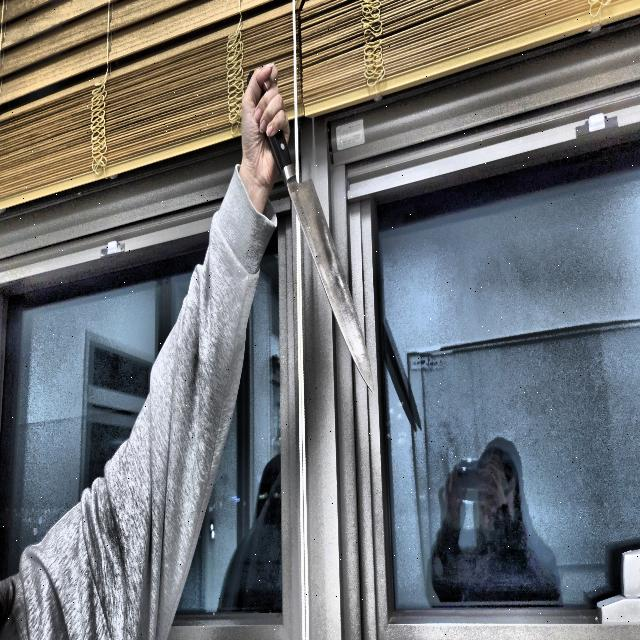knife: (247, 63, 377, 396)
